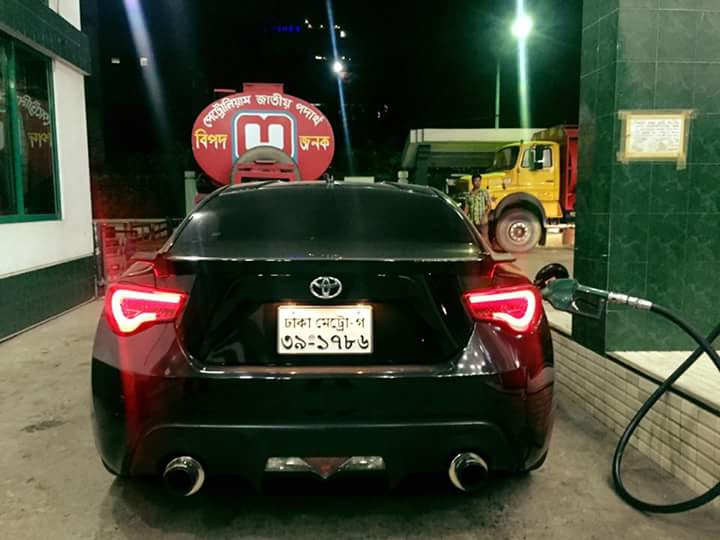registration_plate: (276, 306, 373, 353)
